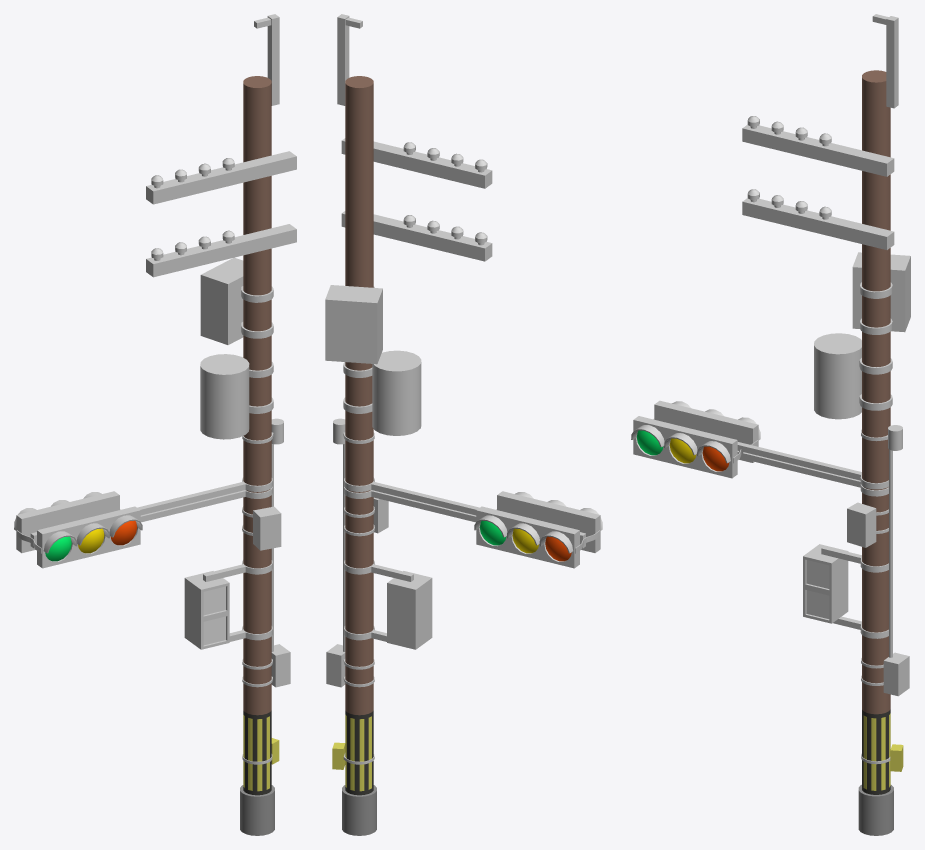
The model's file is TelephonePole.fbx.
The picture shows the model from 3 angles, left to right: view 1: azimuth 30°, elevation 25°; view 2: azimuth 150°, elevation 25°; view 3: azimuth 330°, elevation 25°; orthographic projection.
Visible parts, largest first — view 1: Pole, Beams, Transformer, StoplightFront, CrosswalkSignal, LargeBox, StoplightBack, Stoplight_Beam, ElectricalBox, Base, SmallBox, TopPiece; view 2: Pole, Beams, Transformer, LargeBox, StoplightBack, CrosswalkSignal, StoplightFront, Stoplight_Beam, ElectricalBox, Base, TopPiece, SmallBox; view 3: Pole, Beams, Transformer, StoplightFront, CrosswalkSignal, LargeBox, Stoplight_Beam, ElectricalBox, StoplightBack, Base, TopPiece, SmallBox.
Boxes of the visible parts, x1,y1,x2,y2 form: Pole: (243,76,271,795); Beams: (146,151,296,277); Transformer: (200,354,273,439); StoplightFront: (37,506,142,568); CrosswalkSignal: (184,560,272,649); LargeBox: (200,257,273,344); StoplightBack: (14,491,119,553); Stoplight_Beam: (16,477,272,553); ElectricalBox: (242,418,290,687); Base: (240,785,274,835); SmallBox: (242,506,281,550); TopPiece: (254,14,279,105); Pole: (345,76,373,795); Beams: (341,138,492,261); Transformer: (343,350,421,435); LargeBox: (325,285,382,364); StoplightBack: (474,506,579,568); CrosswalkSignal: (344,560,432,649); StoplightFront: (497,491,602,552); Stoplight_Beam: (344,477,600,553); ElectricalBox: (326,418,374,687); Base: (342,785,376,835); TopPiece: (337,14,362,105); SmallBox: (344,497,388,536); Pole: (862,70,890,794); Beams: (742,116,894,249); Transformer: (814,333,892,419); StoplightFront: (631,416,737,478); CrosswalkSignal: (803,544,888,638); LargeBox: (852,252,910,334); Stoplight_Beam: (653,419,888,496); ElectricalBox: (861,425,909,696); StoplightBack: (654,400,760,462); Base: (858,784,893,835); TopPiece: (872,14,898,108); SmallBox: (847,502,888,547).
Bounding box in the file's own units: 358 × 1077 × 116.
